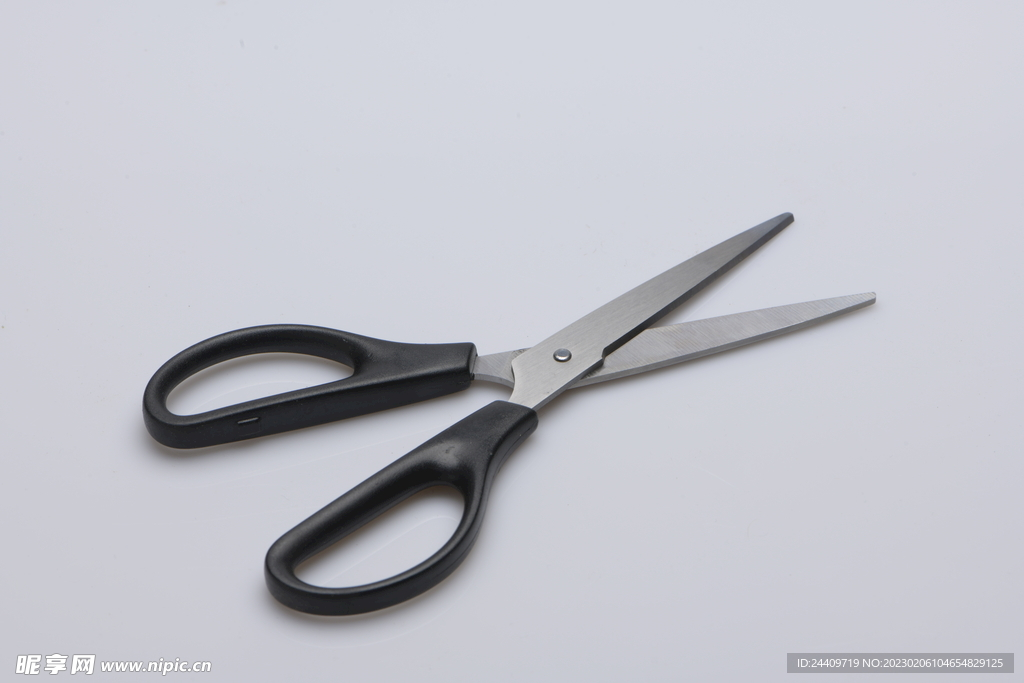scissors: (136, 209, 886, 620)
